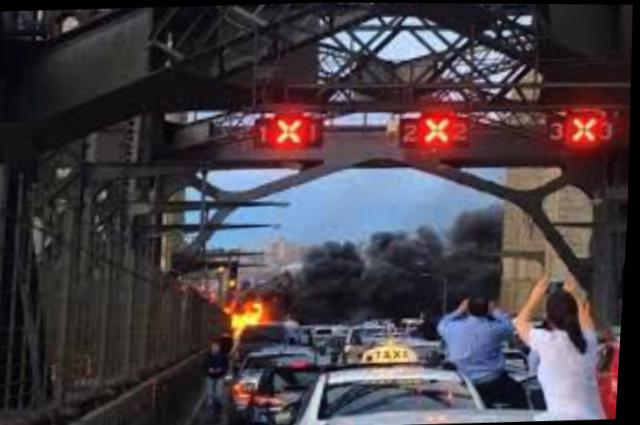fire: (190, 271, 295, 343)
